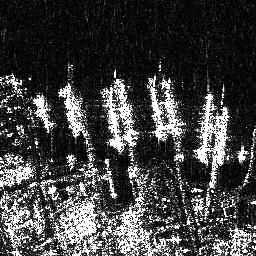ship: (99, 86, 126, 153), (195, 90, 216, 165), (147, 81, 167, 140), (59, 87, 82, 137), (215, 104, 229, 167), (33, 92, 54, 131)
